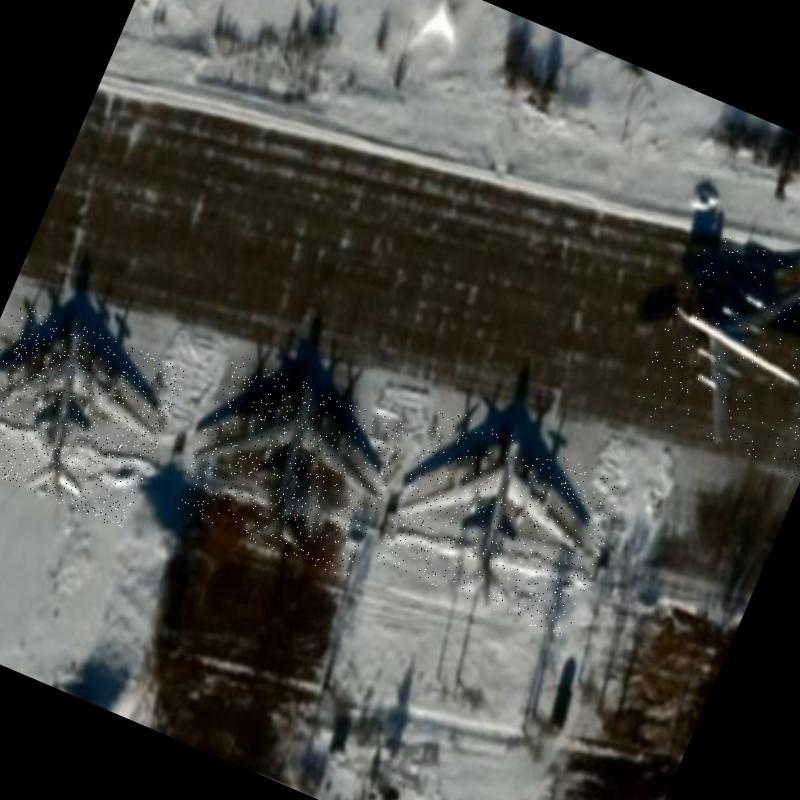A17: (374, 404, 630, 641), (170, 353, 412, 582), (0, 298, 189, 531), (630, 226, 800, 481)
